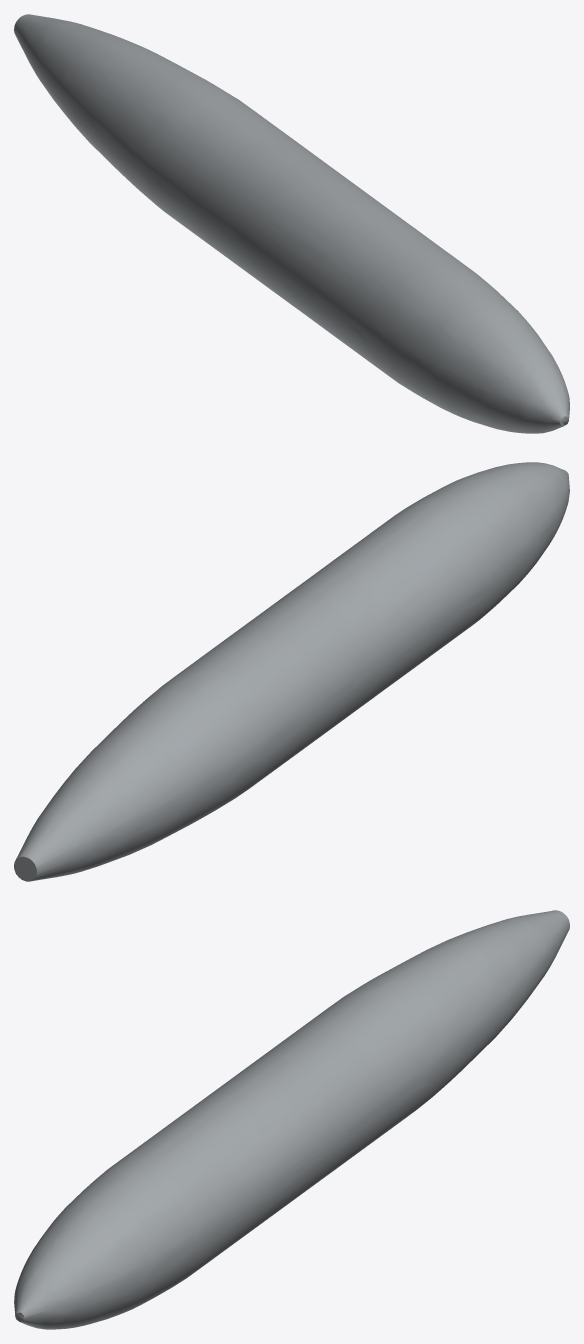
File: fpu8.glb
3 renders of one model, top to bottom at view 1: azimuth 30°, elevation 25°; view 2: azimuth 150°, elevation 25°; view 3: azimuth 330°, elevation 25°, orthographic.
Visible parts, largest first — view 1: airframe; view 2: airframe; view 3: airframe.
Part boxes in pixels (x1,y1,x2,y2): airframe: (14,14,569,433); airframe: (14,462,569,881); airframe: (14,910,569,1329).
Bounding box in the file's own units: 0.6642 × 0.6645 × 5.31.
Materials: 1 (1 with a texture image).
